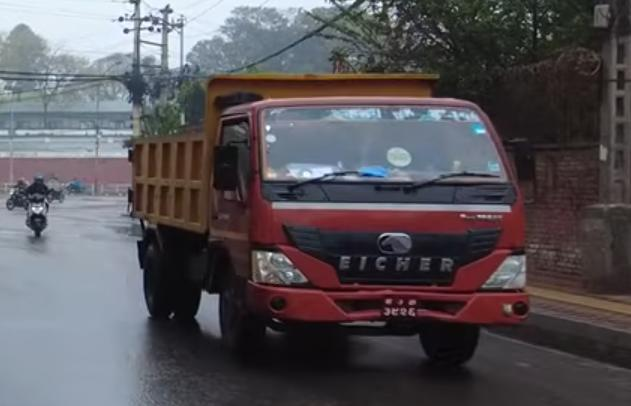mini_truck: (112, 49, 532, 372)
scooter: (22, 172, 58, 243)
